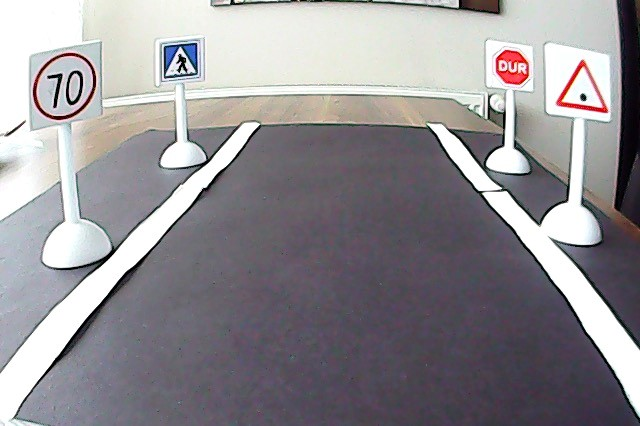green light: (552, 52, 611, 118)
pedestrian crossing: (157, 39, 201, 83)
speed limit 70: (29, 50, 101, 123)
stop sign: (490, 43, 534, 89)
